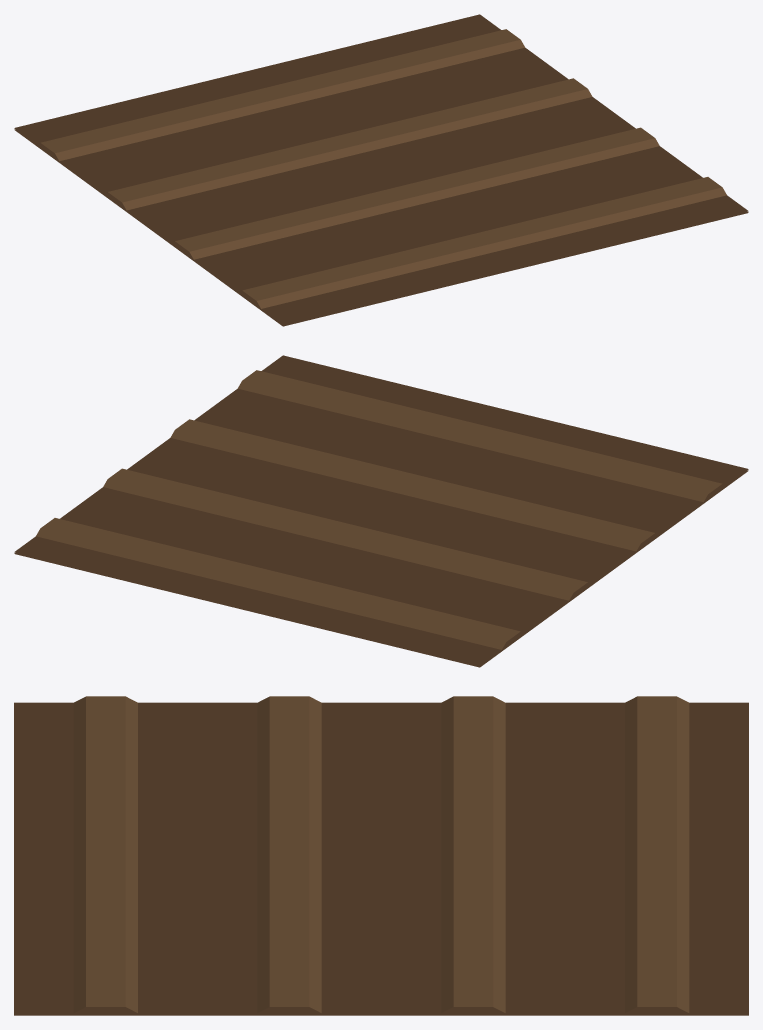
Rendered from pole_zem.glb.
The picture shows the model from 3 angles, top to bottom: view 1: azimuth 30°, elevation 25°; view 2: azimuth 150°, elevation 25°; view 3: azimuth 270°, elevation 25°; orthographic projection. The views are drawn at different scales.
Parts seen in each view (by area): view 1: mari_zaklad_zemina.001; view 2: mari_zaklad_zemina.001; view 3: mari_zaklad_zemina.001.
Boxes of the visible parts, x1,y1,x2,y2 form: mari_zaklad_zemina.001: (14,14,748,326); mari_zaklad_zemina.001: (14,355,748,667); mari_zaklad_zemina.001: (14,696,748,1015).
Size of the model in its own units: 14.8 by 0.1897 by 14.8.
Materials: 1 (1 with a texture image).
